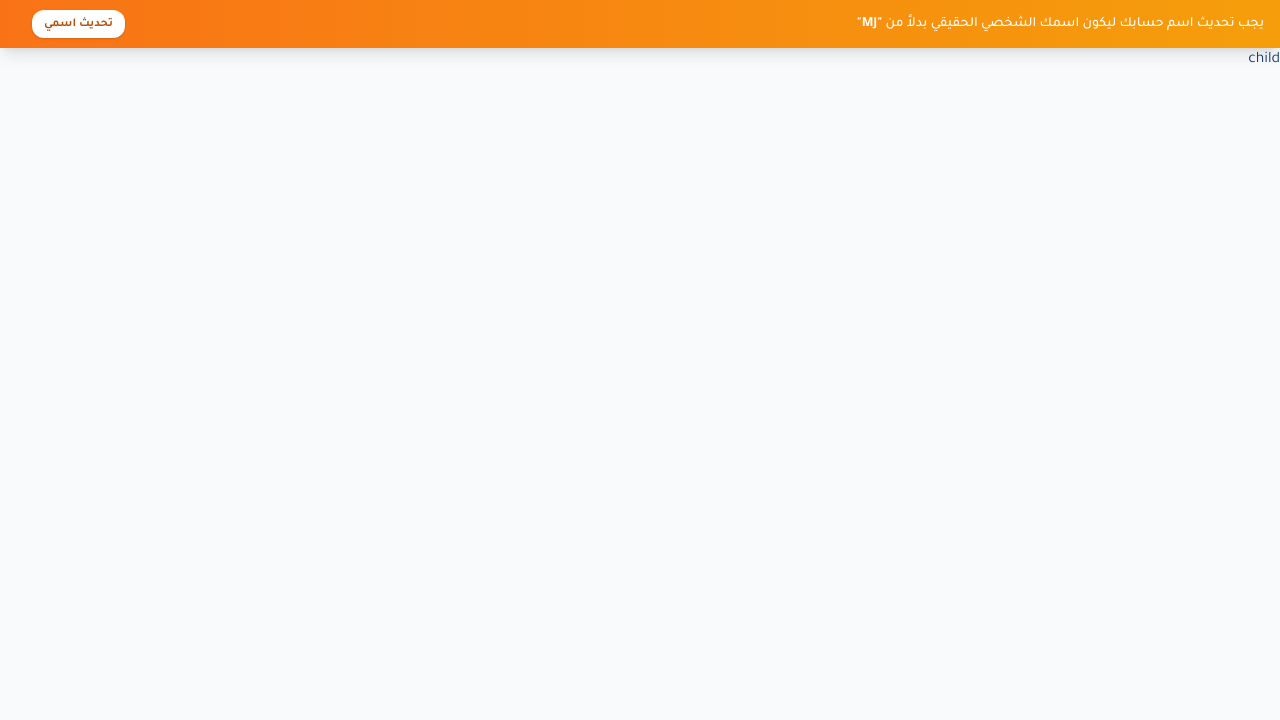
GenericNameGuard — name update modal › too-short name is blocked client-side (no API call) with an inline error
Click the button "تحديث اسمي" at [78, 24], box [32, 10, 125, 38]
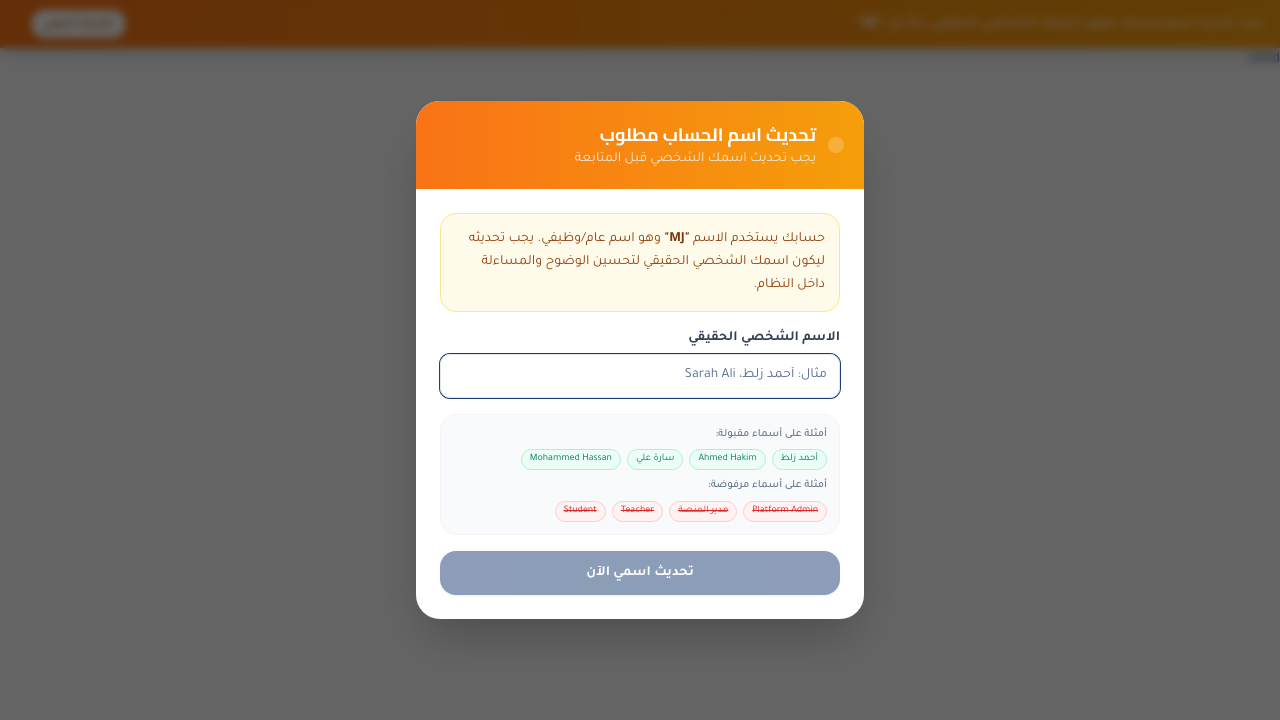
Type "a" into the field with placeholder "مثال: أحمد زلط، Sarah Ali" at [640, 376], box [440, 354, 840, 398]
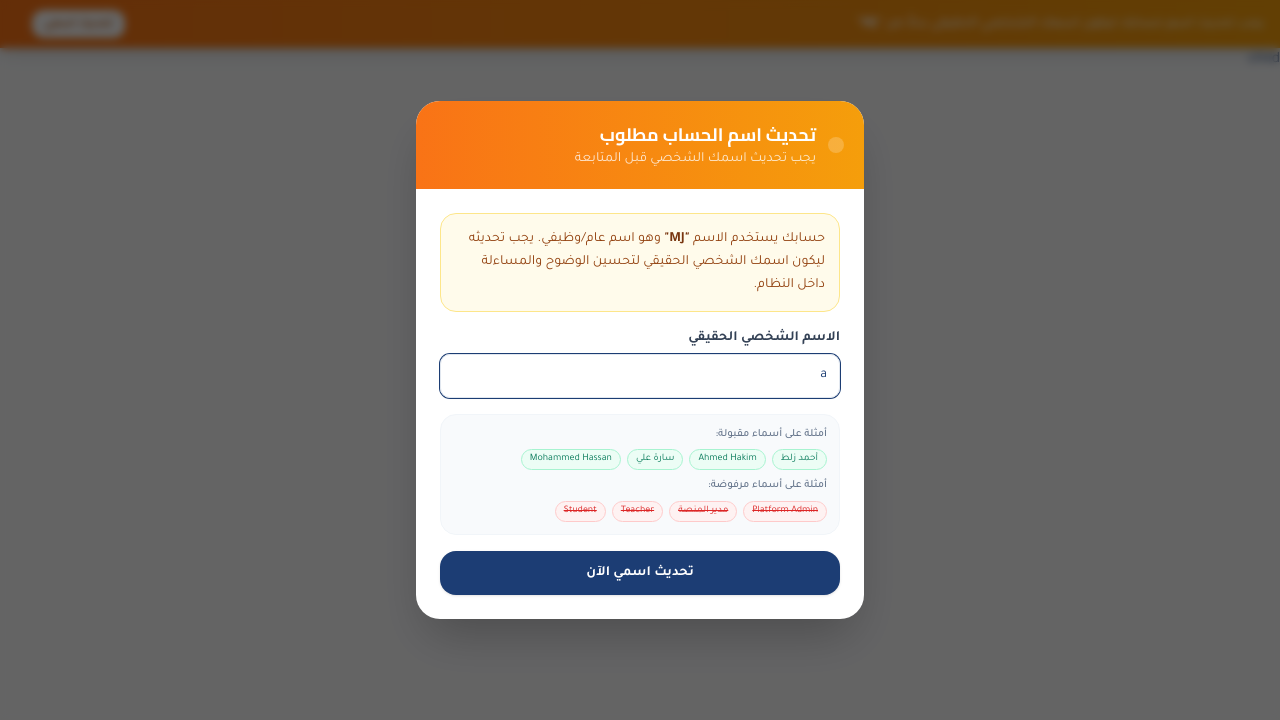
Click the button "تحديث اسمي الآن" at [640, 573], box [440, 551, 840, 595]
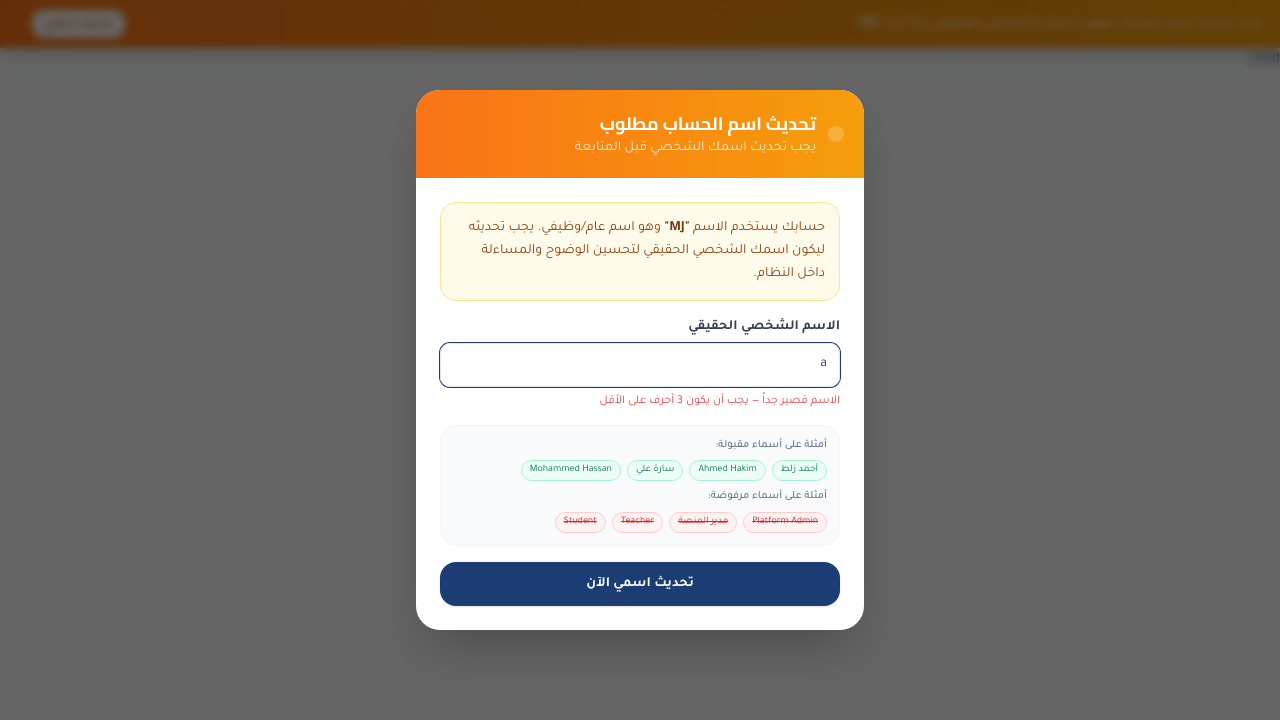
expect the text "الاسم قصير جداً — يجب أن يكون 3 أحرف على الأقل" is shown: met, box [600, 395, 840, 407]
